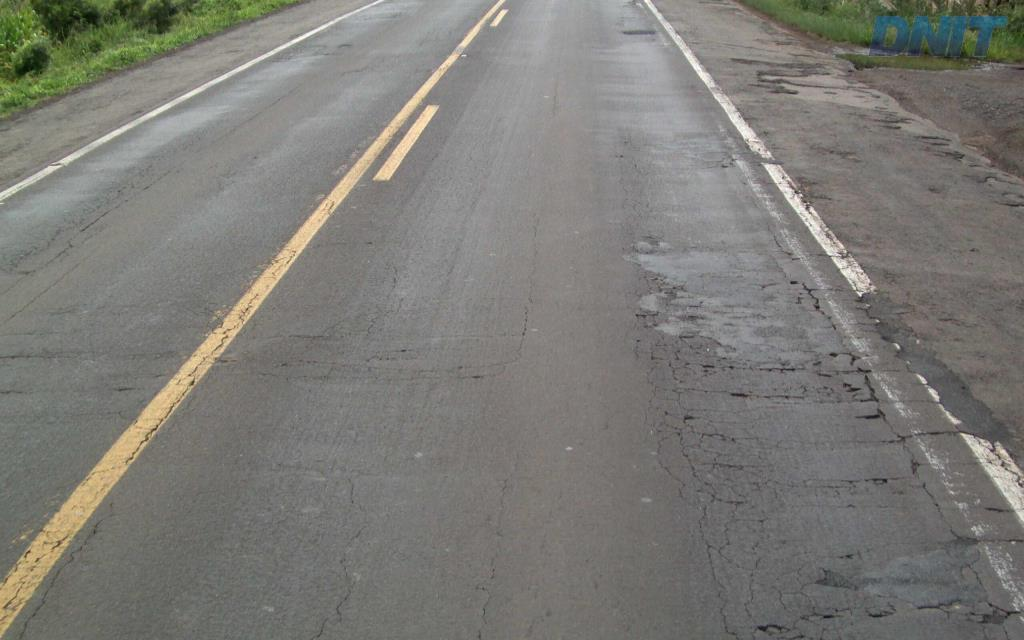crack: (698, 504, 729, 622), (934, 550, 987, 594), (934, 525, 990, 559), (833, 366, 879, 403), (964, 602, 1021, 625), (814, 567, 859, 591)
